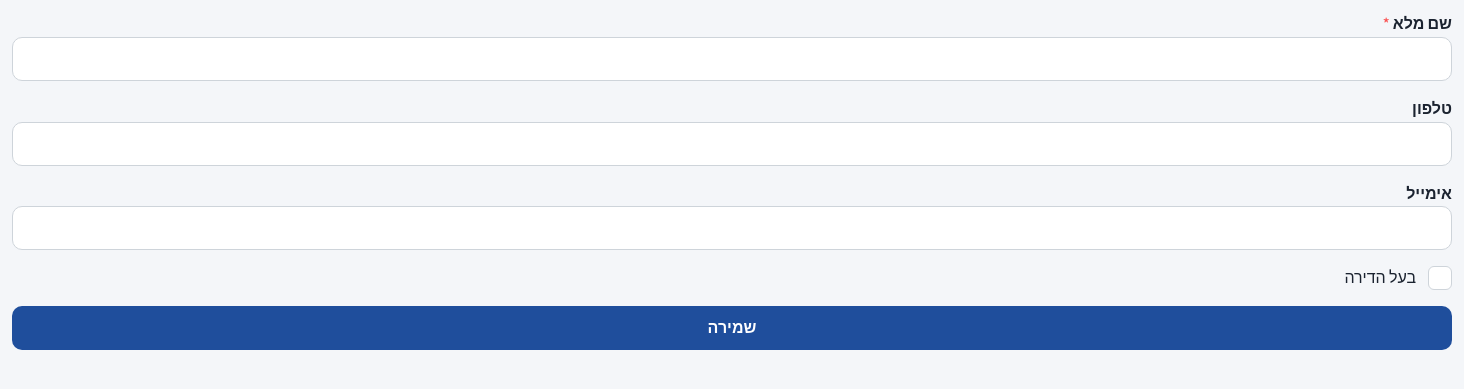
it: ResidentForm › rejects a malformed phone number
In the field labelled "שם מלא": (732, 59) [12,37,1452,81], type "דייר חדש"
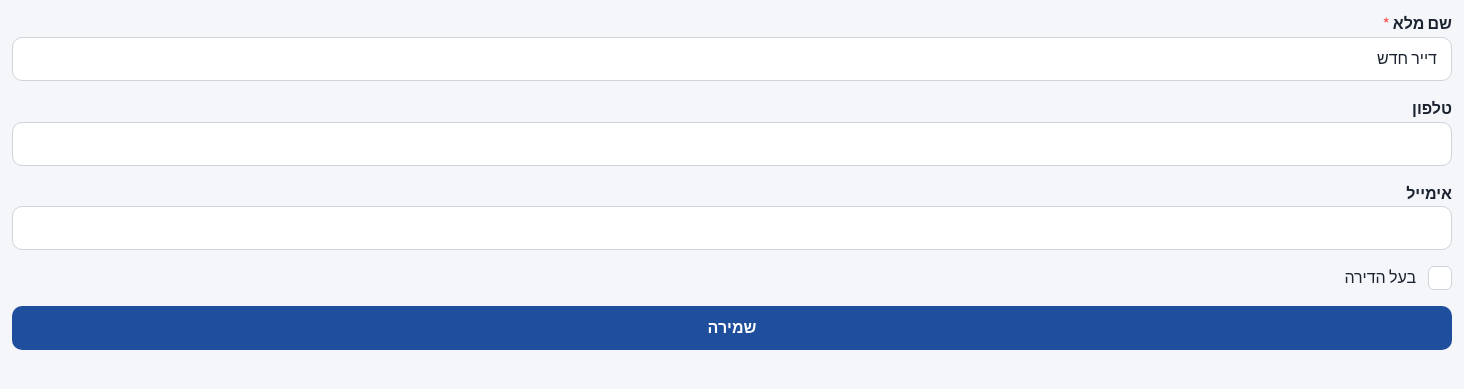
In the field labelled "טלפון": (732, 144) [12,122,1452,166], type "12345"
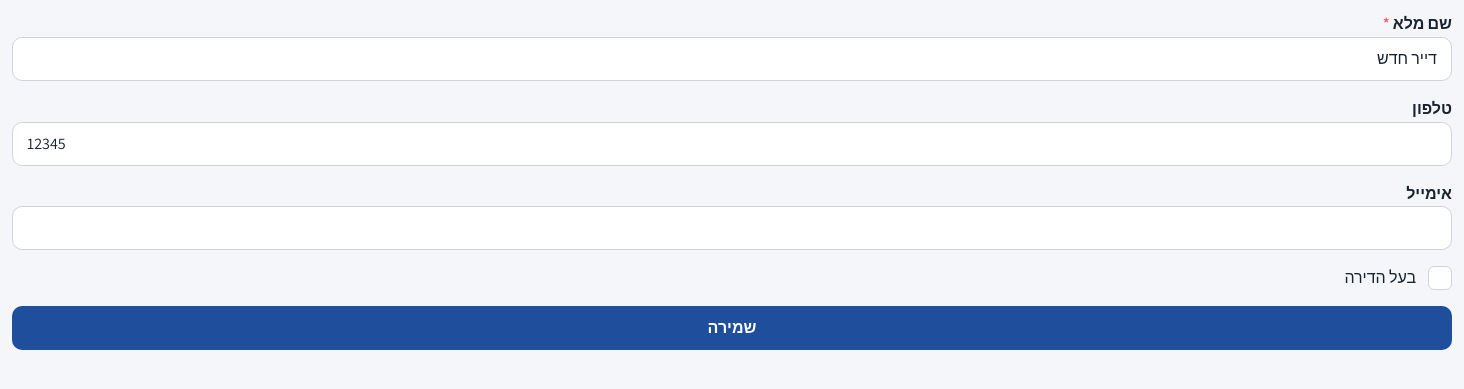
Click the button "שמירה": (732, 328) [12,306,1452,350]
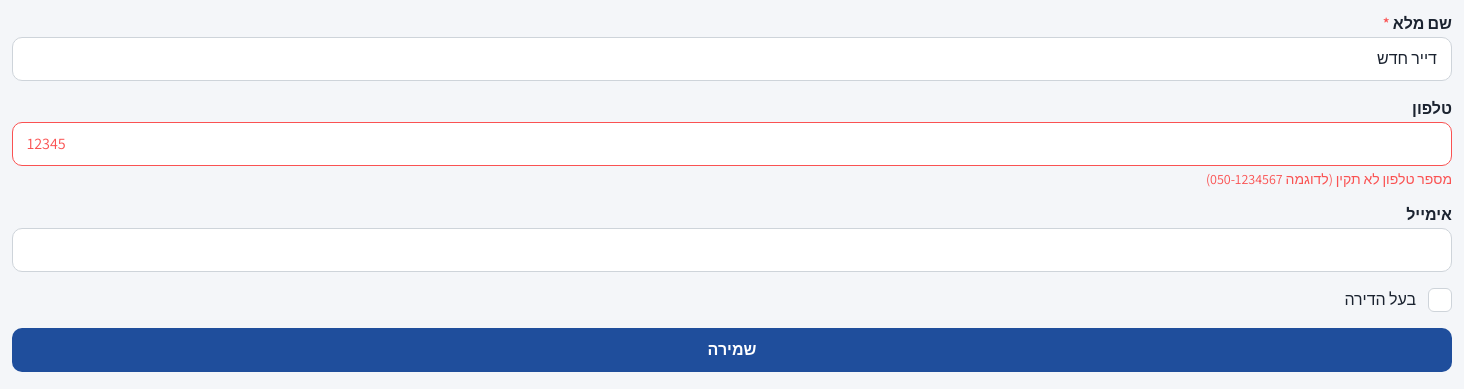
Check: the text "מספר טלפון לא תקין (לדוגמה 050-1234567)" is shown, box [1206,170,1452,188]
